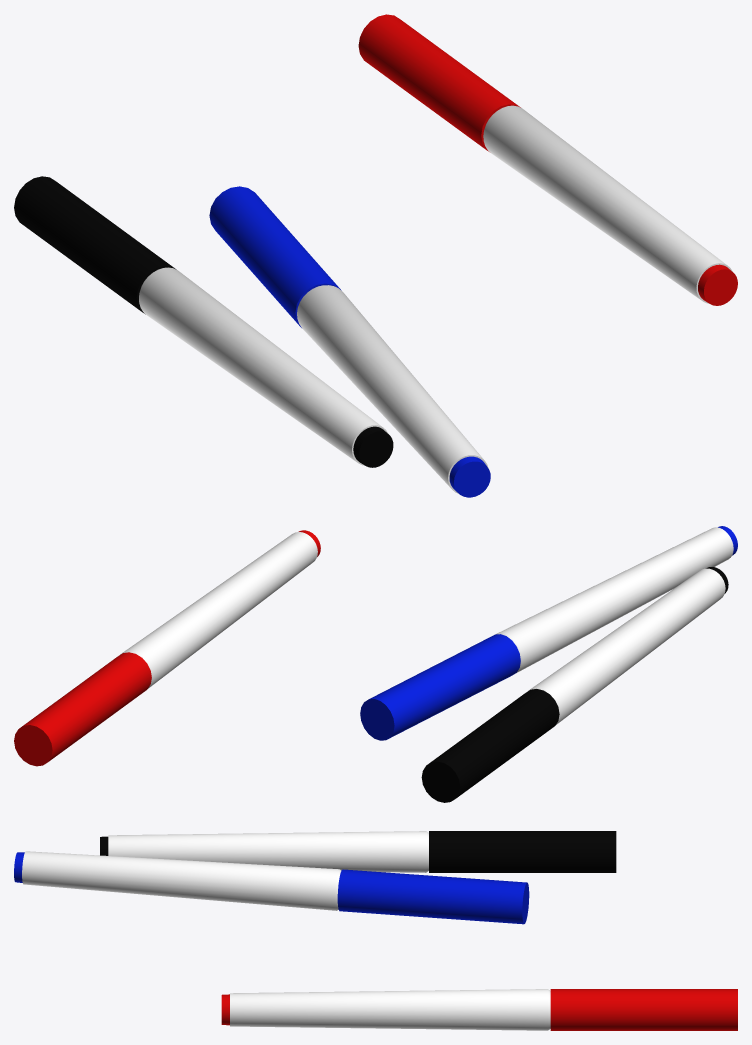
File: Markers.FBX
The picture shows the model from 3 angles, top to bottom: view 1: azimuth 30°, elevation 25°; view 2: azimuth 150°, elevation 25°; view 3: azimuth 270°, elevation 25°; orthographic projection. The views are drawn at different scales.
Parts seen in each view (by area): view 1: Marker 1, Marker 3, Marker 2; view 2: Marker 2, Marker 1, Marker 3; view 3: Marker 2, Marker 3, Marker 1.
Boxes of the visible parts, x1,y1,x2,y2 form: Marker 1: [14, 176, 393, 467]; Marker 3: [358, 14, 737, 305]; Marker 2: [209, 186, 490, 497]; Marker 2: [360, 526, 737, 740]; Marker 1: [421, 567, 728, 802]; Marker 3: [14, 530, 320, 766]; Marker 2: [14, 851, 529, 924]; Marker 3: [221, 989, 737, 1030]; Marker 1: [100, 831, 616, 872].
Bounding box in the file's own units: 11.55 × 1.16 × 20.11.
Materials: 1 (1 with a texture image).
